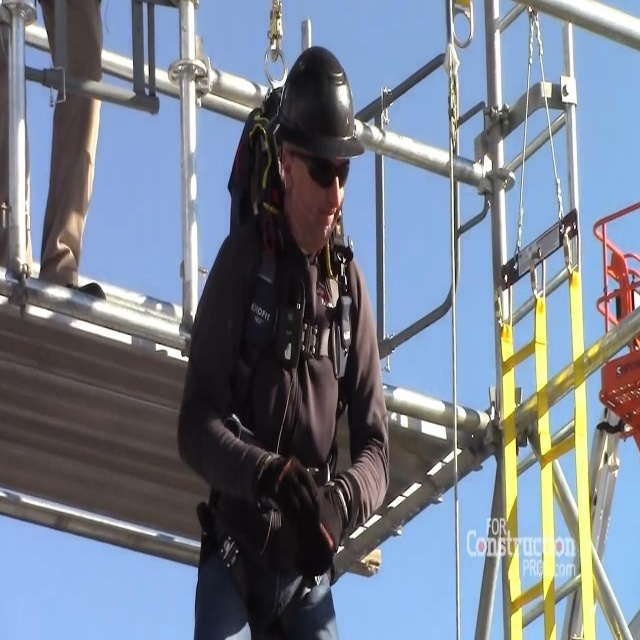Arnes_seguridad: (190, 84, 361, 640)
